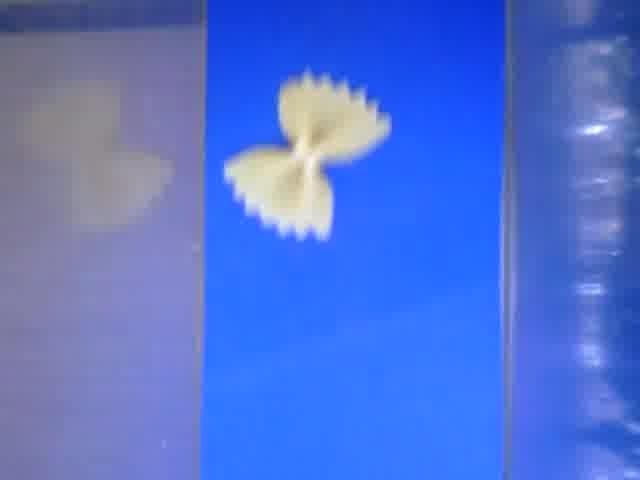farfalle: (224, 71, 390, 238)
